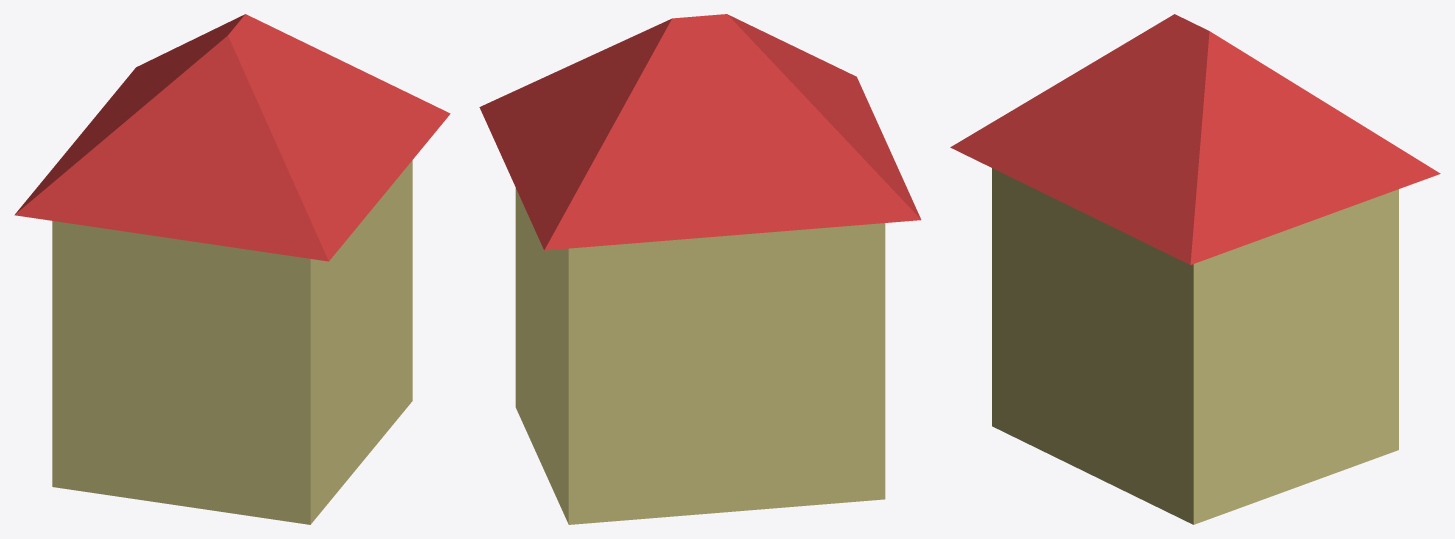
3 renders of one model, left to right at view 1: azimuth 30°, elevation 25°; view 2: azimuth 150°, elevation 25°; view 3: azimuth 270°, elevation 25°, orthographic. The views are drawn at different scales.
Parts seen in each view (by area): view 1: group_5, group_3, group_4; view 2: group_5, group_3, group_4; view 3: group_5, group_3, group_4.
Part boxes in pixels (bbox=[...]): group_5: bbox=[52, 160, 412, 524]; group_3: bbox=[16, 14, 412, 261]; group_4: bbox=[15, 58, 450, 261]; group_5: bbox=[515, 188, 885, 524]; group_3: bbox=[479, 14, 920, 249]; group_4: bbox=[479, 65, 920, 250]; group_5: bbox=[992, 168, 1398, 524]; group_3: bbox=[992, 14, 1440, 264]; group_4: bbox=[950, 122, 1308, 264].
Bounding box in the file's own units: 16.68 × 16.55 × 15.5.
